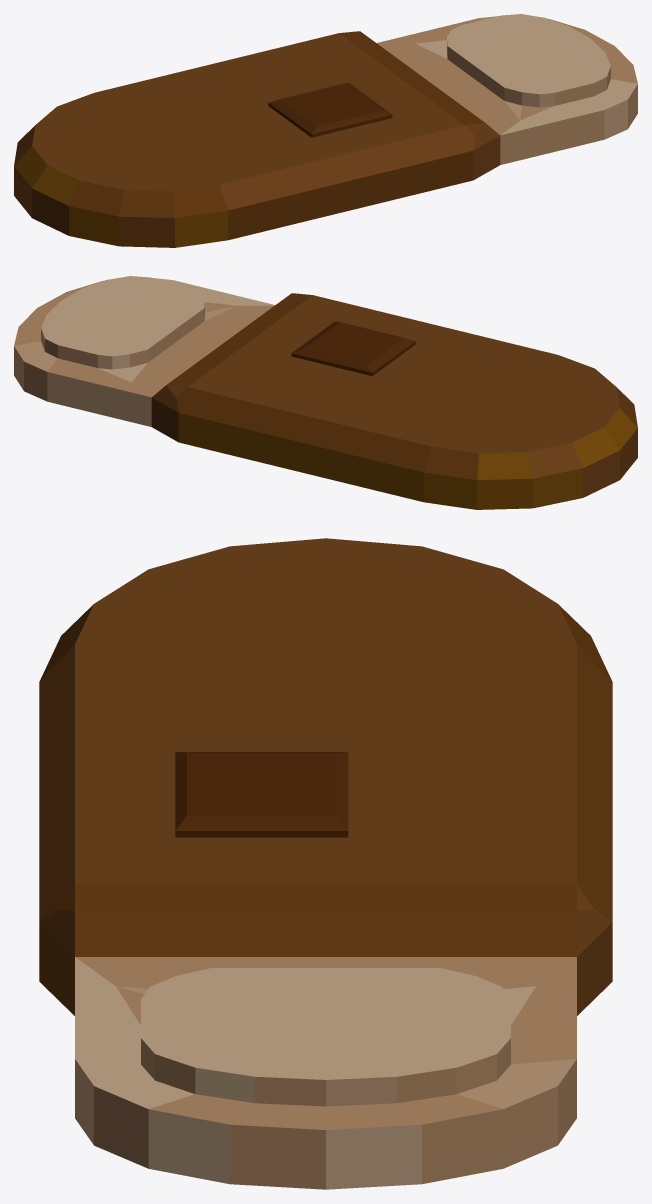
The model's file is bedroll.fbx.
3 renders of one model, top to bottom at view 1: azimuth 30°, elevation 25°; view 2: azimuth 150°, elevation 25°; view 3: azimuth 270°, elevation 25°, orthographic. The views are drawn at different scales.
Parts seen in each view (by area): view 1: Circle.002; view 2: Circle.002; view 3: Circle.002.
Boxes of the visible parts, left/top/right/bottom form: Circle.002: left=14, top=14, right=637, bottom=247; Circle.002: left=14, top=276, right=637, bottom=509; Circle.002: left=39, top=538, right=612, bottom=1189.
Bounding box in the file's own units: 1298 × 280 × 3048.
